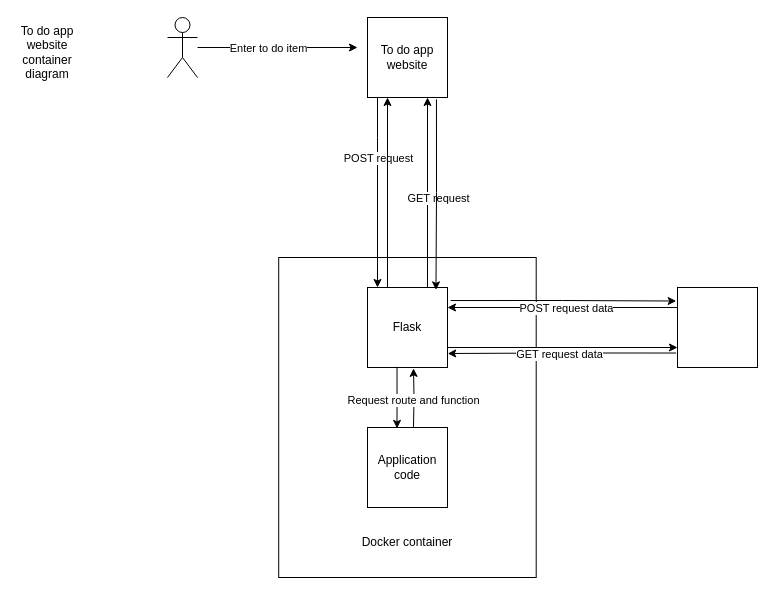
The diagram is 775 pixels wide and 595 high, and some of its shapes have lost their labels. The centre of each missing label's shape, as x and y in pixels:
To do app user: (x=182, y=47)
Trello API: (x=717, y=327)
